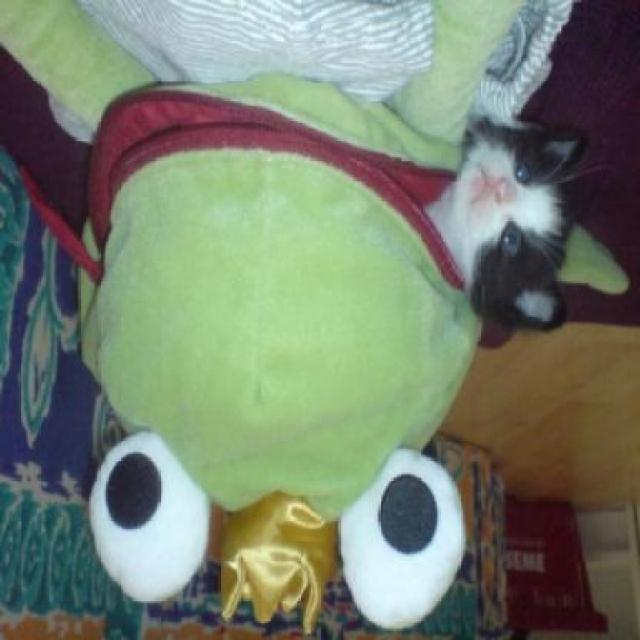cat: (402, 93, 600, 347)
